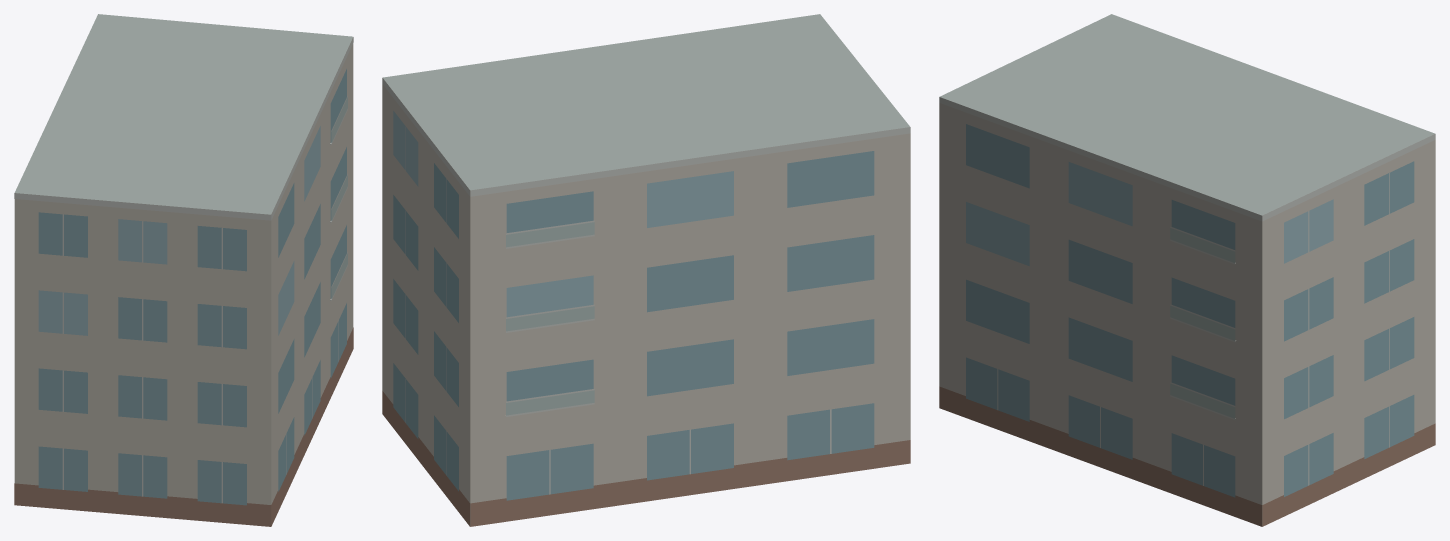
The model's file is survey-upis-32827372.glb.
3 renders of one model, left to right at view 1: azimuth 30°, elevation 25°; view 2: azimuth 150°, elevation 25°; view 3: azimuth 270°, elevation 25°, orthographic. The views are drawn at different scales.
Visible parts, largest first — view 1: survey-upis-32827372.tmp; view 2: survey-upis-32827372.tmp; view 3: survey-upis-32827372.tmp.
Boxes of the visible parts, x1,y1,x2,y2 form: survey-upis-32827372.tmp: [14, 14, 353, 526]; survey-upis-32827372.tmp: [382, 14, 910, 526]; survey-upis-32827372.tmp: [939, 14, 1435, 526].
Size of the model in its own units: 17.79 by 12.8 by 18.51.
